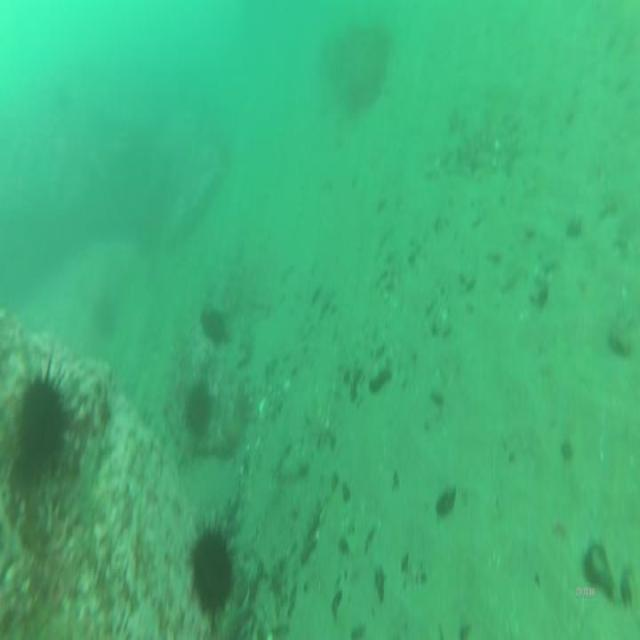echinus: (19, 379, 66, 476), (191, 529, 232, 610), (182, 386, 212, 438), (199, 306, 229, 351), (218, 417, 242, 452)
